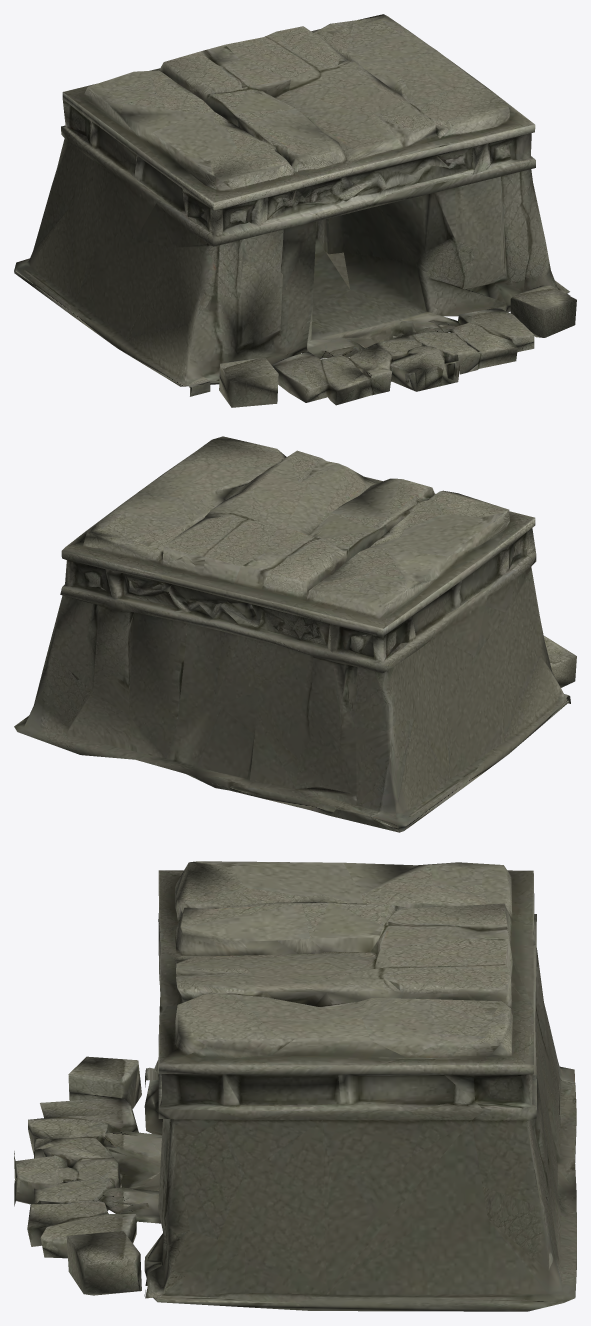
Rendered from wall_block.glb.
3 views of the same model, one above another, from view 1: azimuth 30°, elevation 25°; view 2: azimuth 150°, elevation 25°; view 3: azimuth 270°, elevation 25° (orthographic). The views are drawn at different scales.
Bounding box in the file's own units: 1.89 × 0.9331 × 1.9.
Materials: 1 (1 with a texture image).
